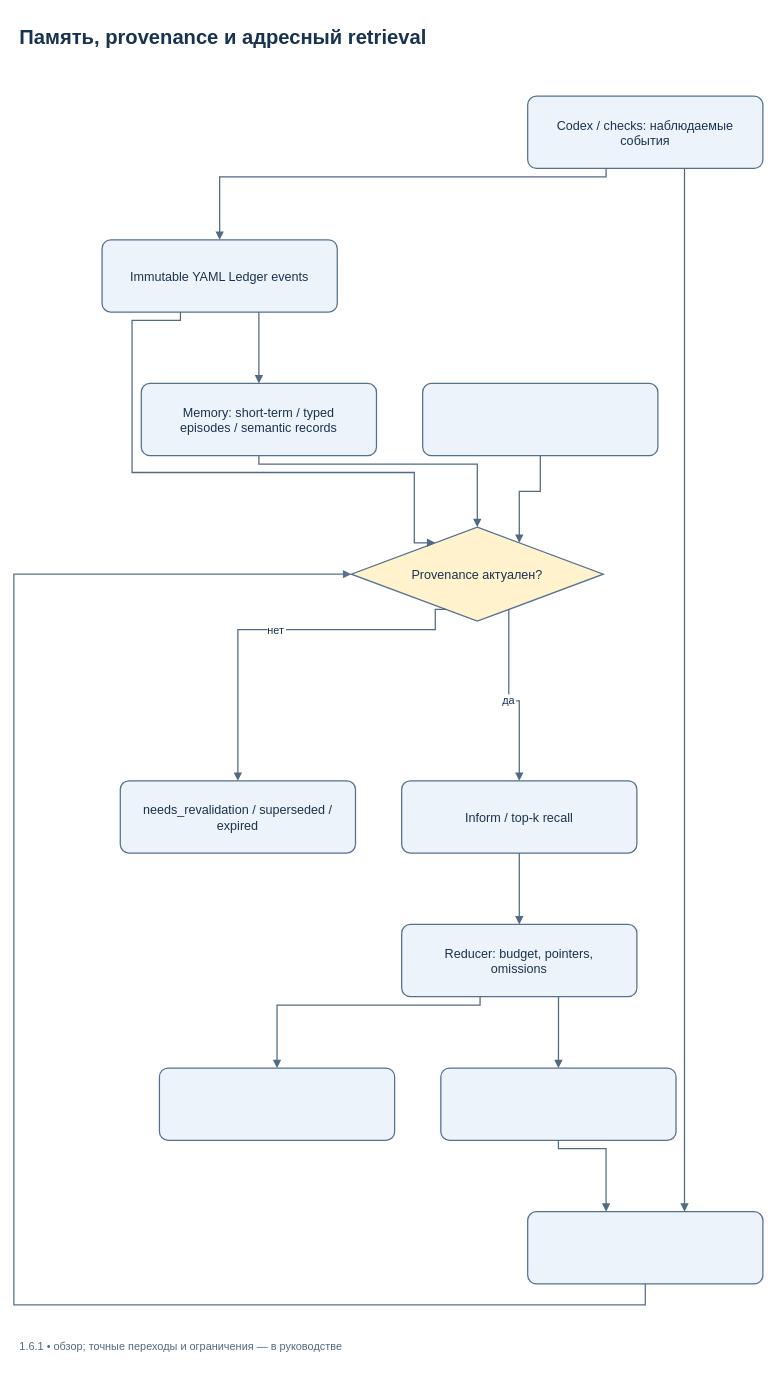
Some shapes in this 777 by 1373 pixel diagram are drawn without their labels. Here are the shapes that lost their labels. From the top down, the centre of each, then its label:
At (540,419): "Текущие source и toolchain fingerprints".
At (276,1104): "Следующий model turn".
At (558,1104): "Адресный retrieval по ID и offset".
At (645,1247): "Raw evidence: JSONL, receipts, logs".
